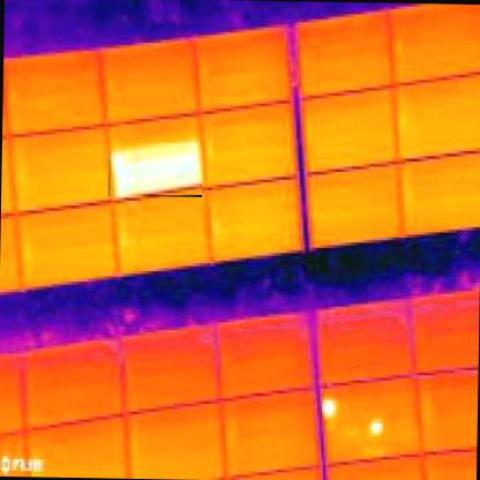fault: (110, 148, 194, 182), (370, 420, 384, 436), (324, 398, 335, 414)
